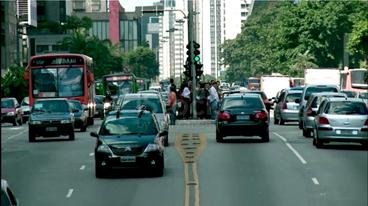bus: (20, 51, 108, 132)
car: (86, 106, 179, 186), (213, 87, 281, 146), (310, 95, 368, 155), (22, 97, 80, 145)
